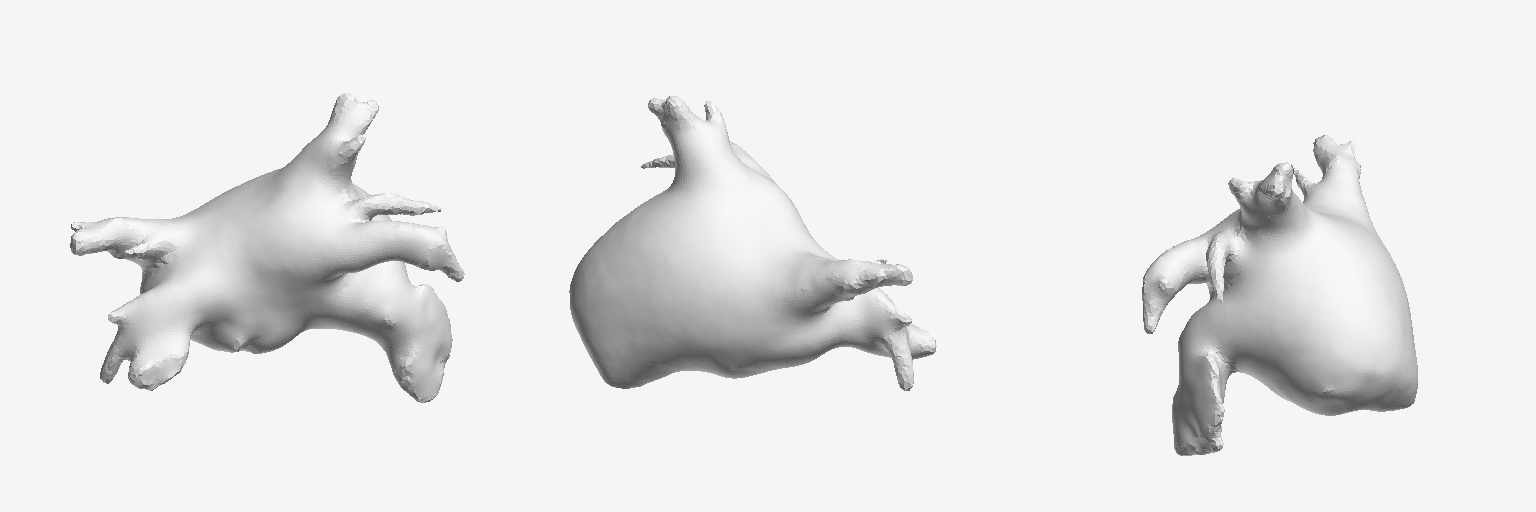
File: original_mesh.obj
The picture shows the model from 3 angles: view 1: azimuth 30°, elevation 25°; view 2: azimuth 150°, elevation 25°; view 3: azimuth 270°, elevation 25°; orthographic projection.
Bounding box in the file's own units: 97.06 × 78.4 × 71.02.